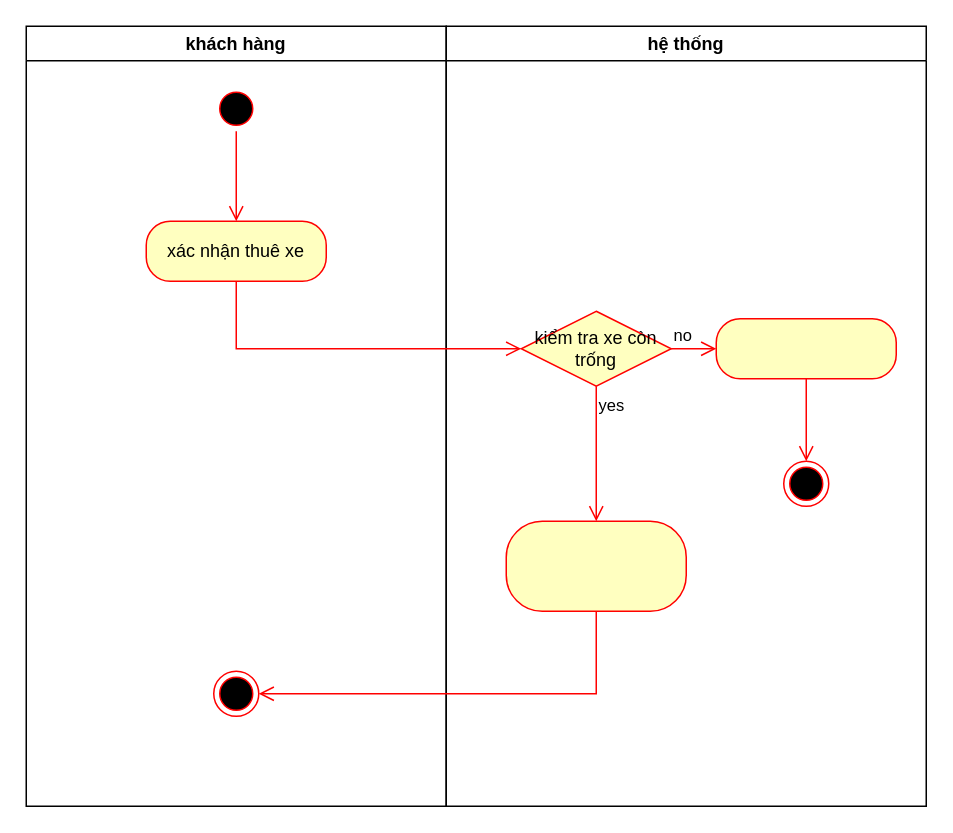
The diagram is 953 pixels wide and 833 high, and some of its shapes have lost their labels. The centre of each missing label's shape, as x and y in pixels:
tạo đơn thuê, cấp mã đơn, tính tiền cọc, hiển thị thành công: the point at 595,565
xe không còn trống: the point at 805,348
